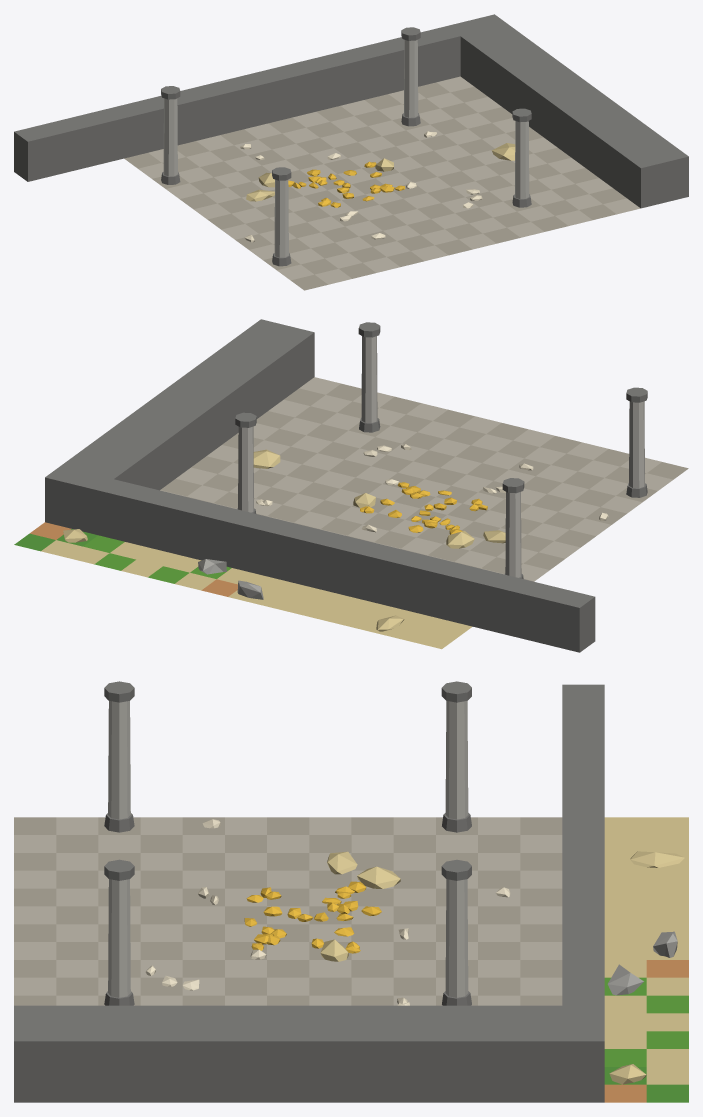
Rendered from chunk_7_21.glb.
The picture shows the model from 3 angles, top to bottom: view 1: azimuth 30°, elevation 25°; view 2: azimuth 150°, elevation 25°; view 3: azimuth 270°, elevation 25°; orthographic projection. The views are drawn at different scales.
Visible parts, largest first — view 1: chunk_7_21; view 2: chunk_7_21; view 3: chunk_7_21.
Boxes of the visible parts, x1,y1,x2,y2 form: chunk_7_21: [14, 14, 688, 290]; chunk_7_21: [14, 319, 688, 652]; chunk_7_21: [14, 681, 688, 1102].
Size of the model in its own units: 20 by 4.06 by 16.
